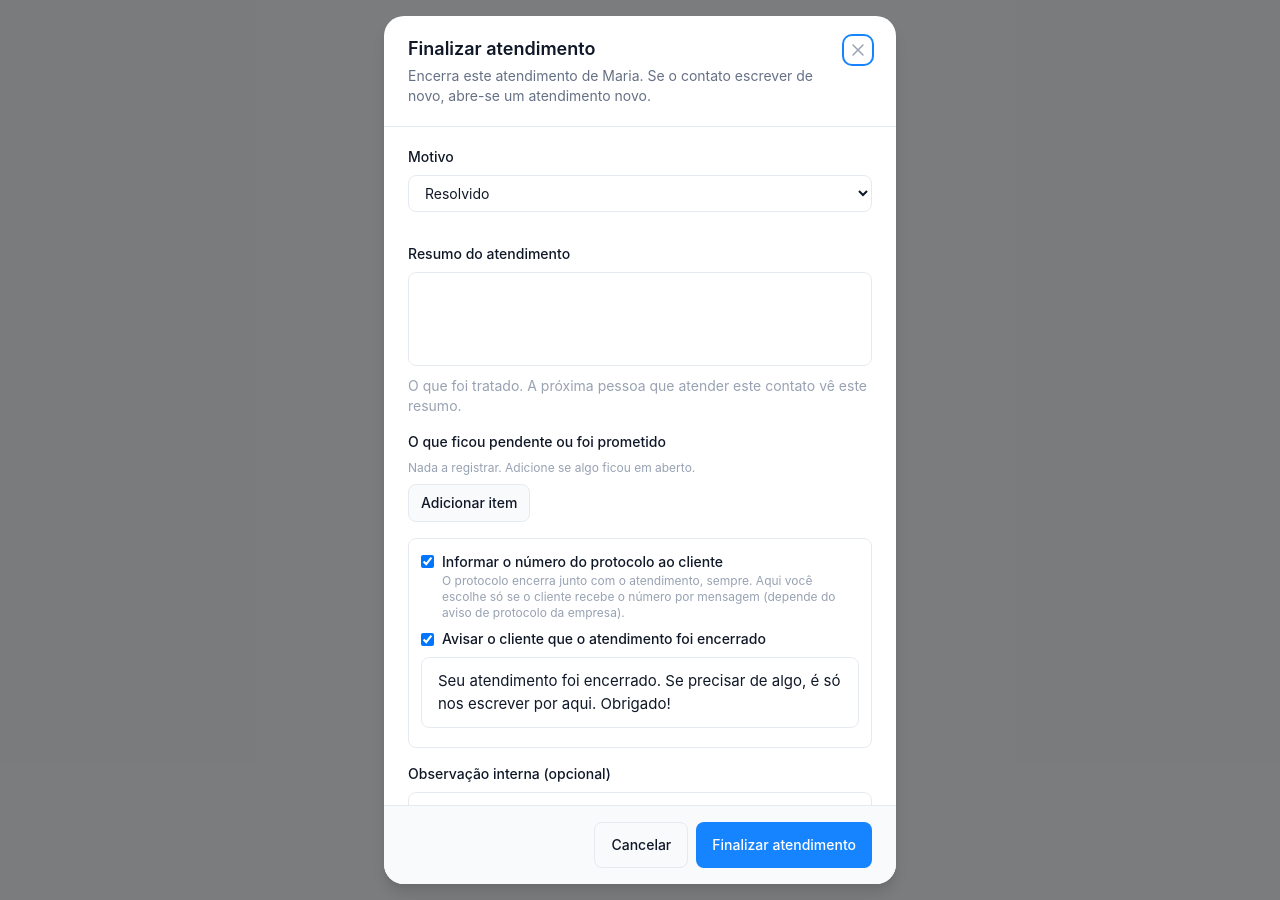
finalizing the attendance through the Hub (phase 05b) › a 404 for a Hub agent says the conversation LEFT the Hub (e.g. the contact became internal), not that it does not exist
Click the button "Finalizar atendimento". click: {"x": 784, "y": 845}
box: left=696, top=822, right=872, bottom=868
(page scrolled)
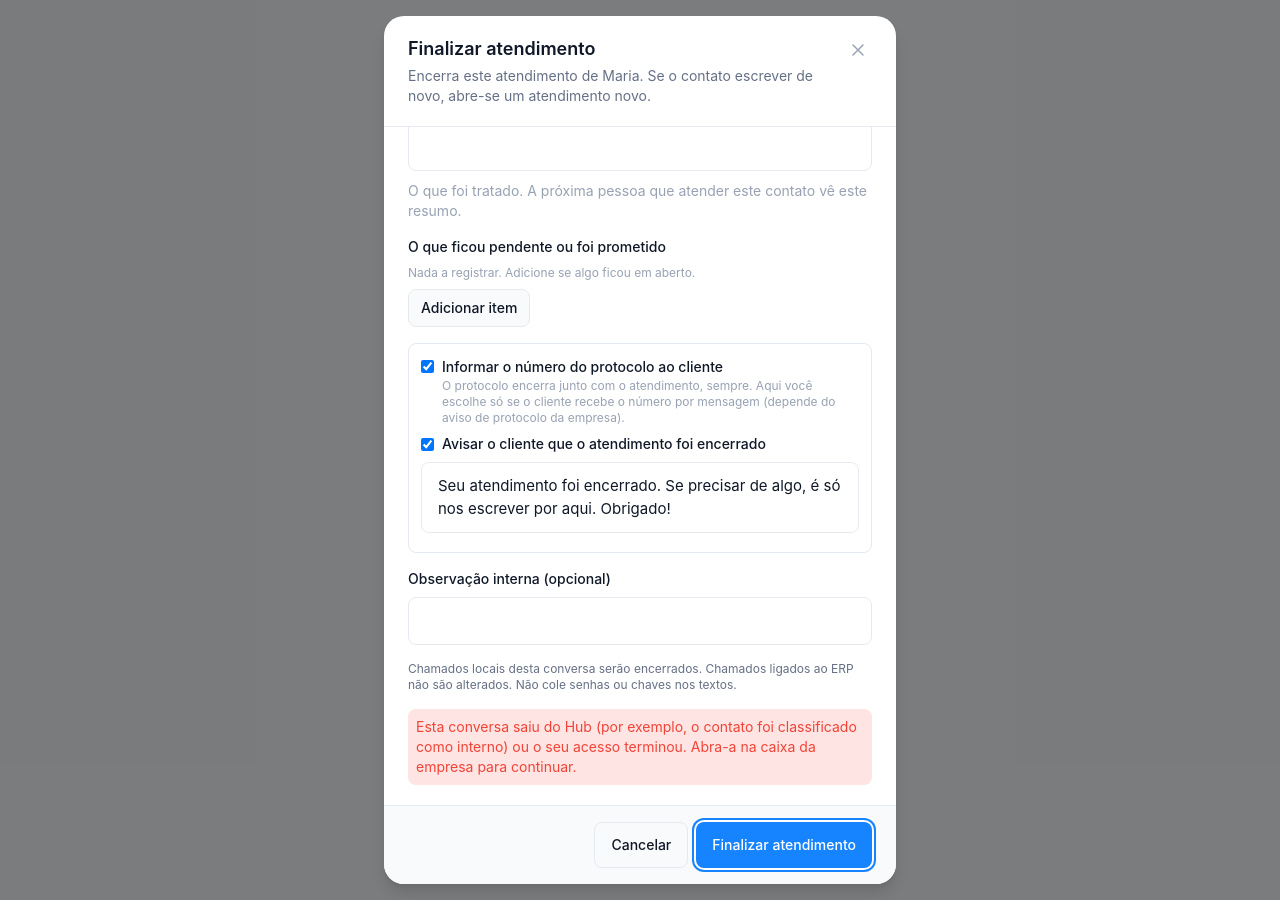
Expected: the message does not show "Conversa não encontrada.", left=408, top=709, right=872, bottom=785
Expected: the message shows "saiu do Hub", left=416, top=718, right=857, bottom=775
Expected: the message shows "caixa da empresa", left=416, top=718, right=857, bottom=775
